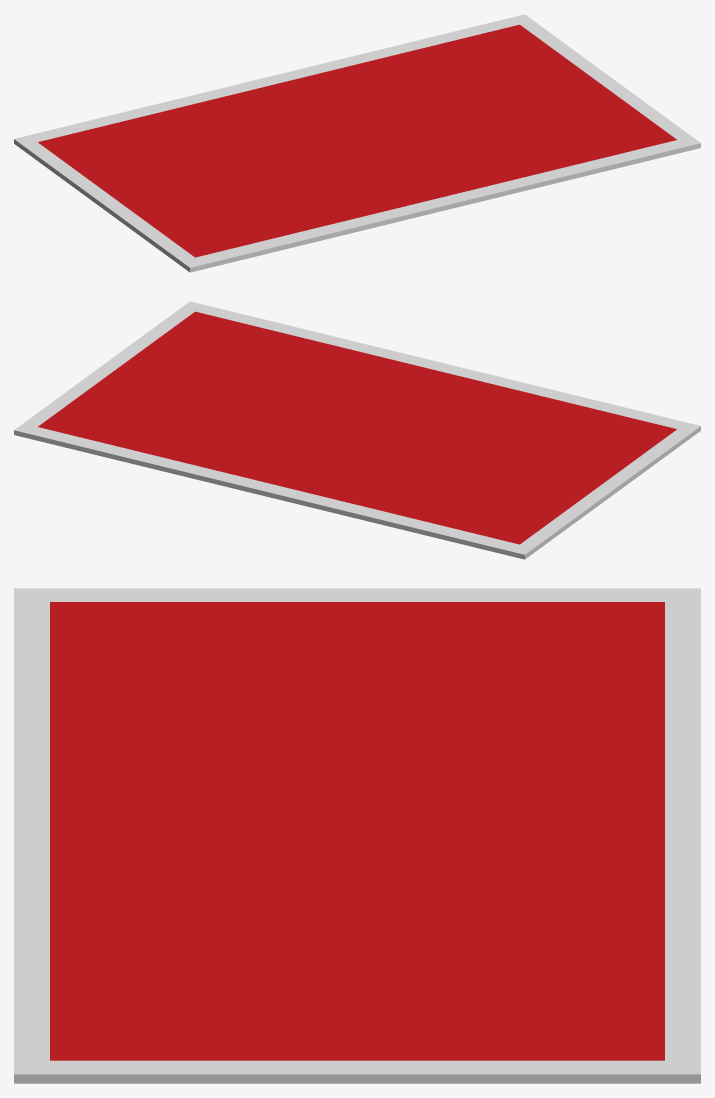
The model's file is Carpet01.fbx.
3 views of the same model, one above another, from view 1: azimuth 30°, elevation 25°; view 2: azimuth 150°, elevation 25°; view 3: azimuth 270°, elevation 25° (orthographic). The views are drawn at different scales.
Visible parts, largest first — view 1: Cube; view 2: Cube; view 3: Cube.
Part boxes in pixels (x1=…): Cube: x1=14, y1=14, x2=700, y2=272; Cube: x1=14, y1=301, x2=700, y2=559; Cube: x1=14, y1=588, x2=700, y2=1083.
Size of the model in its own units: 248 by 2.23 by 148.
